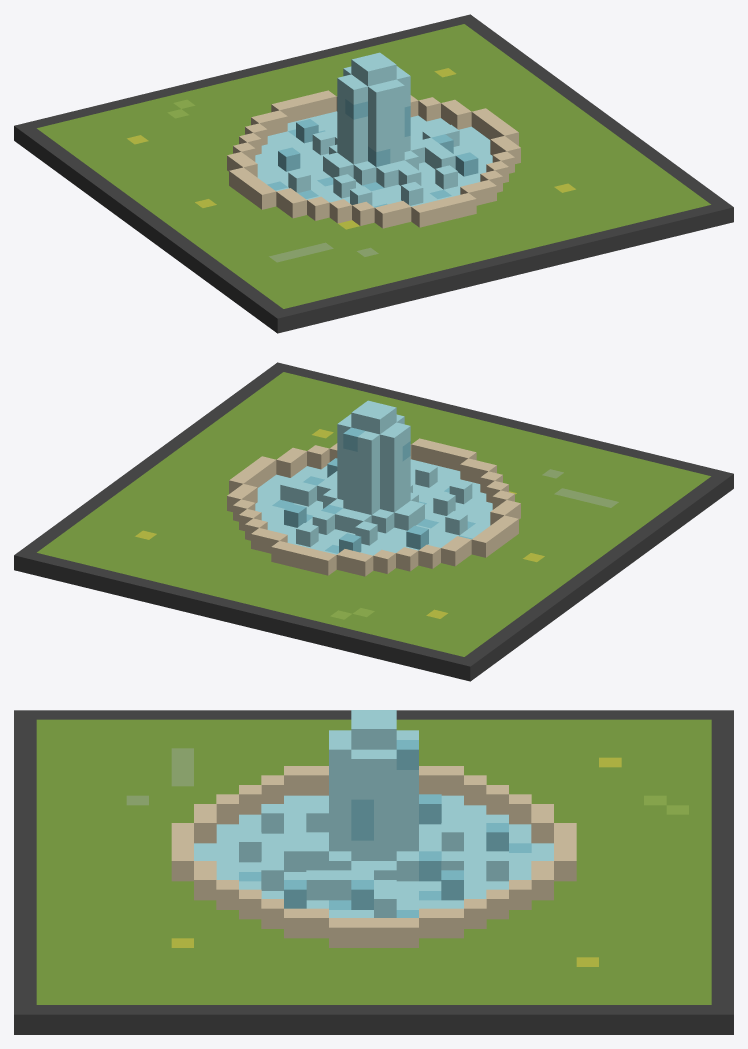
The model's file is spring.glb.
3 views of the same model, one above another, from view 1: azimuth 30°, elevation 25°; view 2: azimuth 150°, elevation 25°; view 3: azimuth 270°, elevation 25° (orthographic). The views are drawn at different scales.
Visible parts, largest first — view 1: Node; view 2: Node; view 3: Node.
Part boxes in pixels (x1,y1,x2,y2): Node: (14, 14, 733, 333); Node: (14, 362, 733, 681); Node: (14, 710, 733, 1034).
Size of the model in its own units: 3.2 by 0.8 by 3.2.
1 material, 1 textured.
